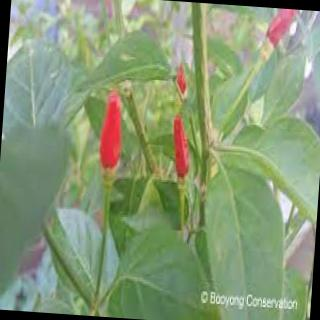Cabai Merah: (99, 90, 122, 171), (266, 9, 301, 48), (173, 114, 190, 181)
